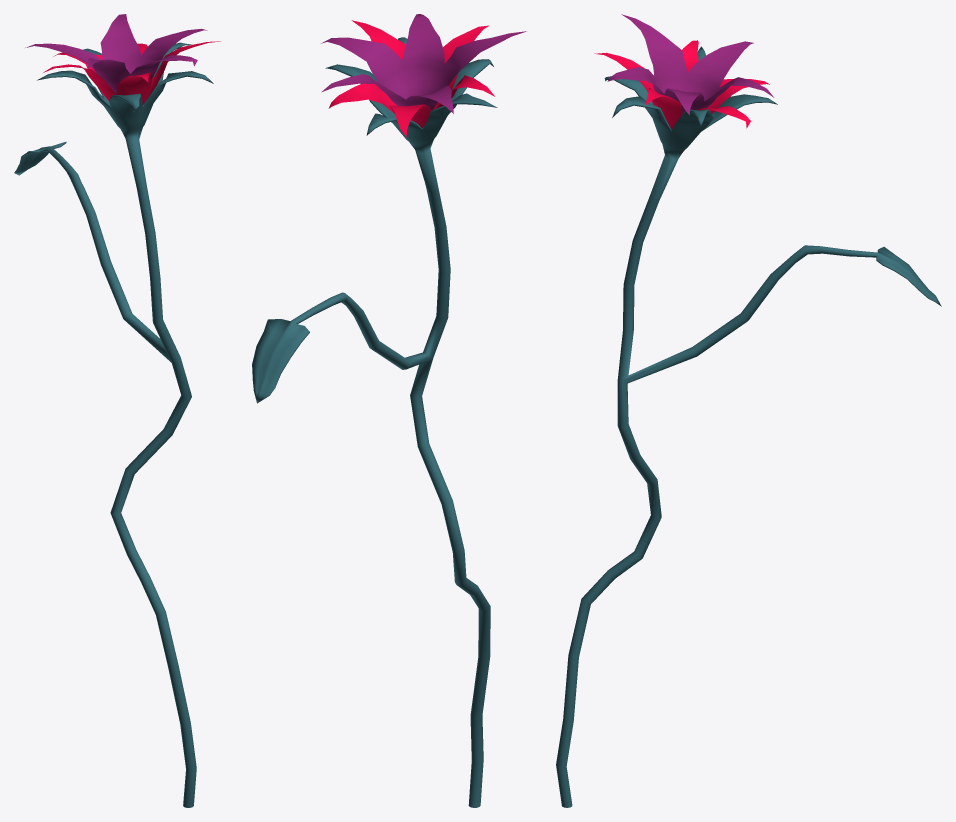
File: mesh_flower.fbx
The picture shows the model from 3 angles, left to right: view 1: azimuth 30°, elevation 25°; view 2: azimuth 150°, elevation 25°; view 3: azimuth 270°, elevation 25°; orthographic projection. The views are drawn at different scales.
Visible parts, largest first — view 1: Circle; view 2: Circle; view 3: Circle.
Part boxes in pixels (left/top/right/bottom): Circle: left=14, top=14, right=220, bottom=807; Circle: left=252, top=14, right=526, bottom=807; Circle: left=556, top=14, right=941, bottom=807.
Bounding box in the file's own units: 224 × 949 × 440.
